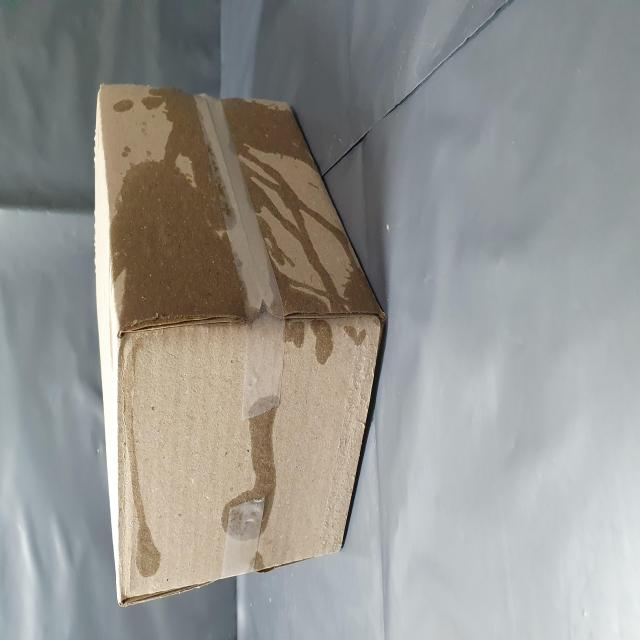wet: (164, 172, 312, 412), (176, 412, 308, 640), (51, 389, 143, 517), (28, 215, 140, 295)
